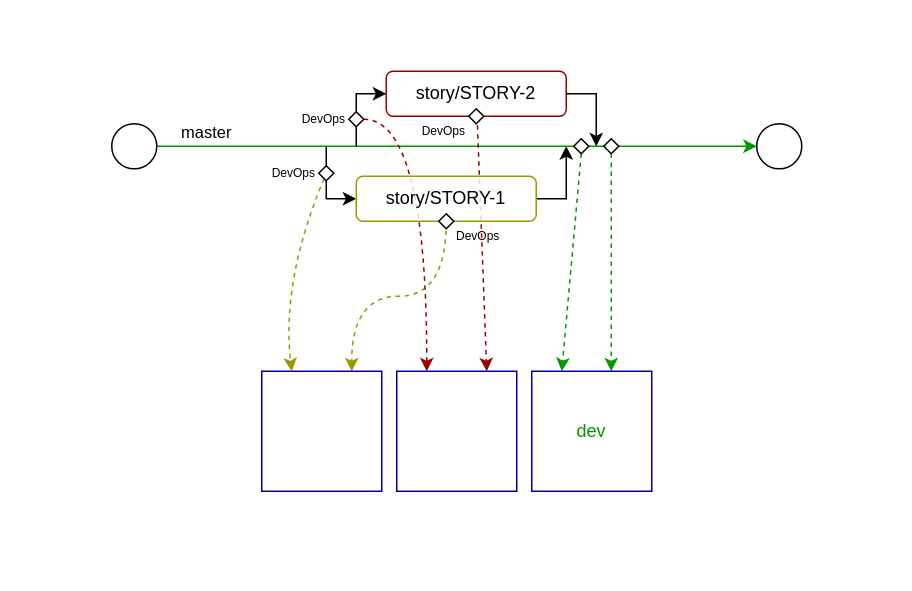
Some shapes in this 912 by 591 pixel diagram are drawn without their labels. Each missing label, with the box of its shape:
story1: (260, 370, 382, 491)
story2: (395, 370, 517, 491)
